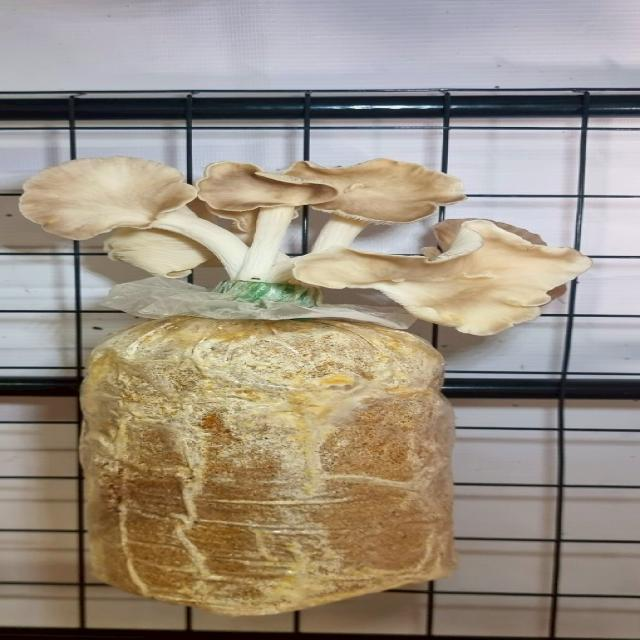normal: (277, 217, 601, 338), (200, 154, 470, 231), (19, 155, 199, 246)
